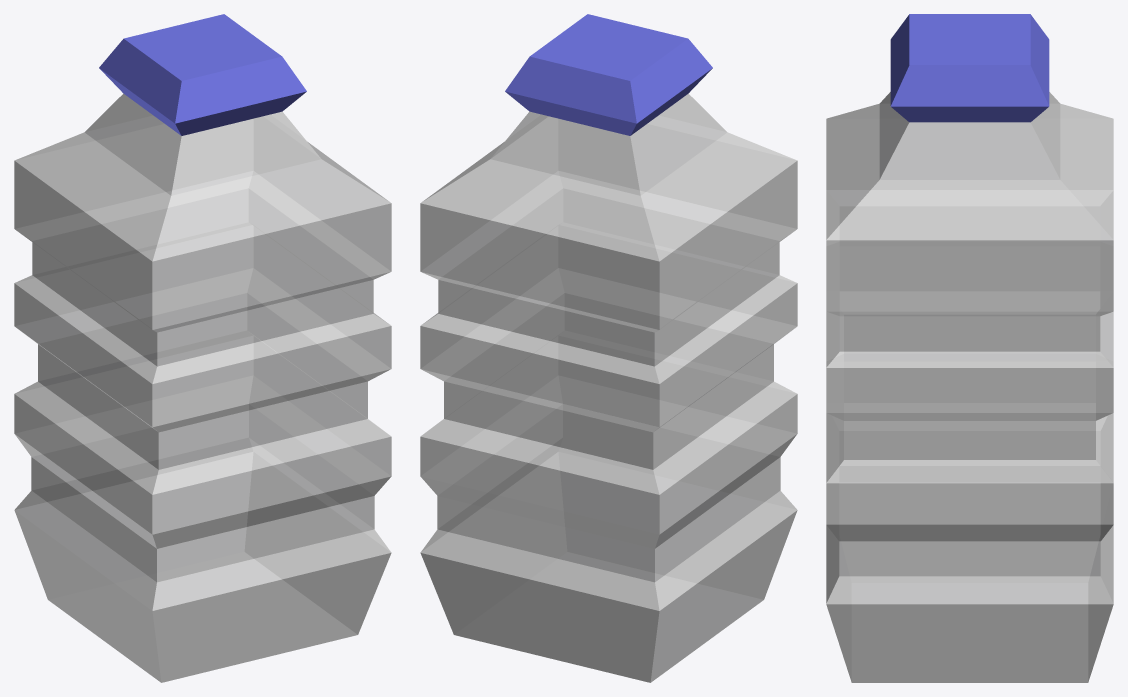
Rendered from paper.glb.
3 renders of one model, left to right at view 1: azimuth 30°, elevation 25°; view 2: azimuth 150°, elevation 25°; view 3: azimuth 270°, elevation 25°, orthographic. The views are drawn at different scales.
Parts seen in each view (by area): view 1: Куб; view 2: Куб; view 3: Куб.
Part boxes in pixels (box(x1,y1,x2,y2)): Куб: box(14, 14, 391, 682); Куб: box(420, 14, 797, 682); Куб: box(826, 14, 1113, 682).
Size of the model in its own units: 0.2982 by 0.6791 by 0.2982.
